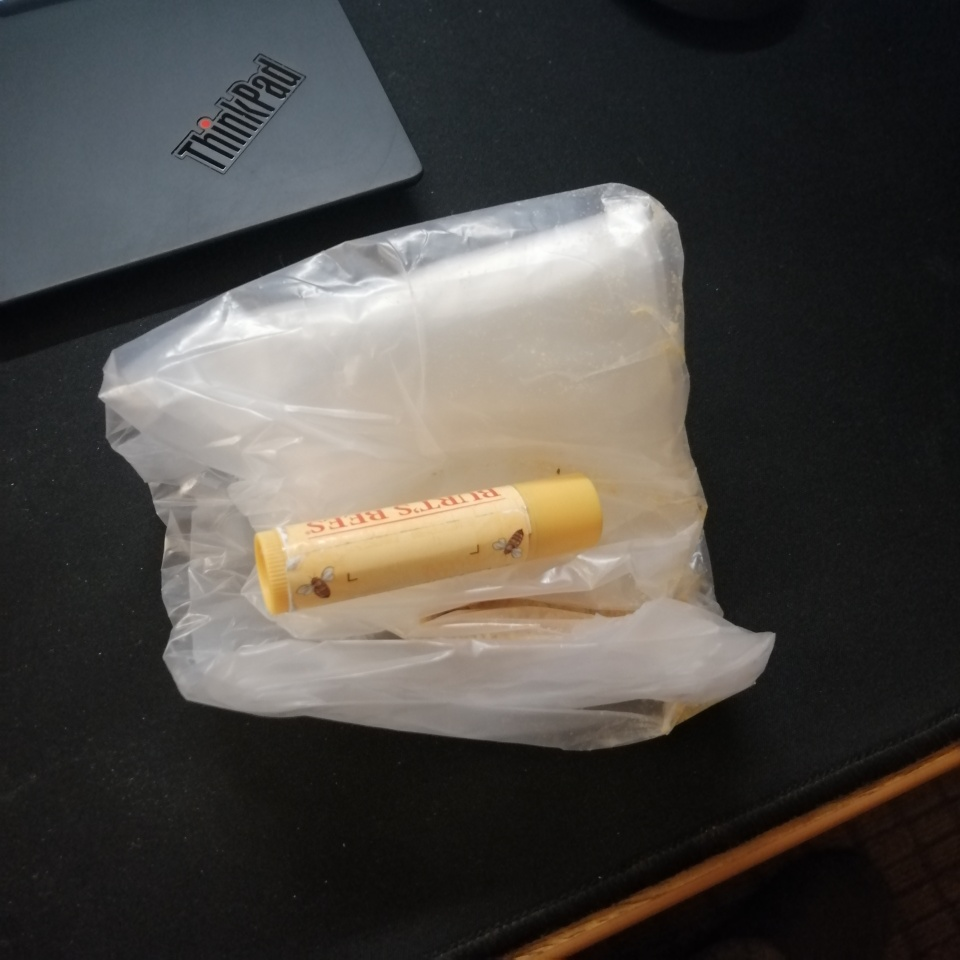chapstick: (253, 471, 605, 617)
